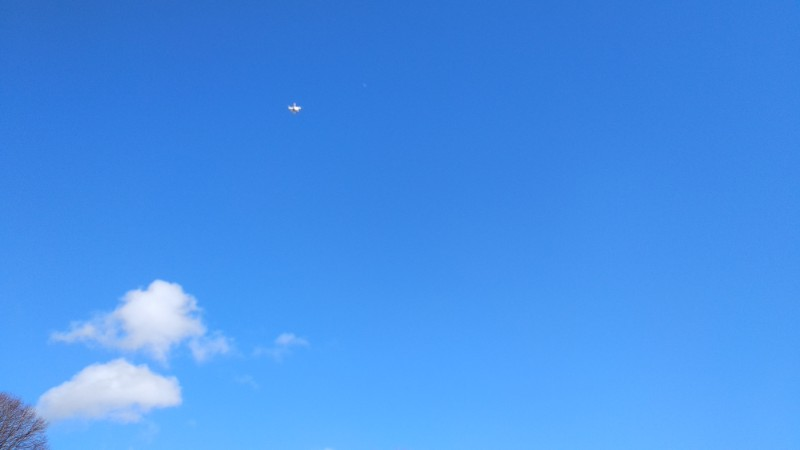drone: (286, 101, 302, 114)
